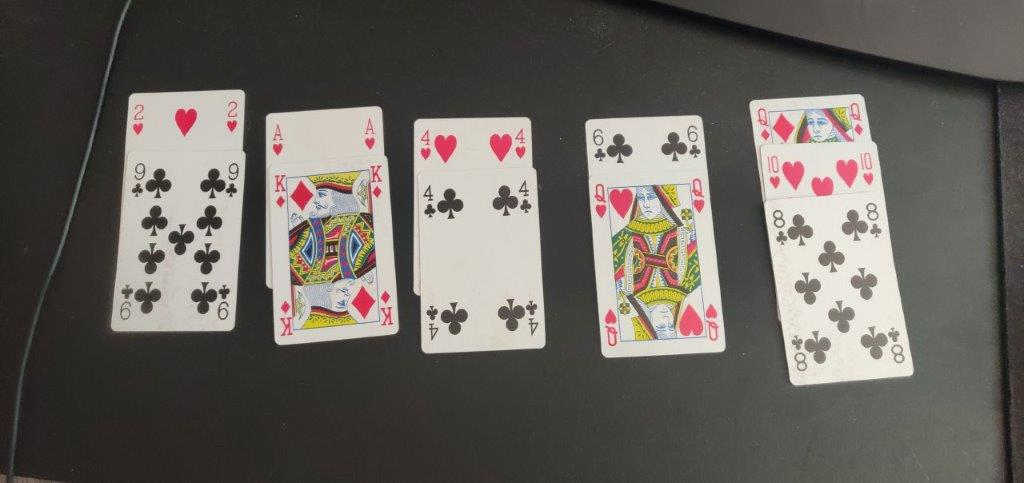10H: (857, 149, 880, 191), (763, 150, 785, 192)
2H: (126, 99, 149, 140), (225, 99, 240, 137)
4C: (419, 179, 440, 223), (516, 177, 535, 219)
4H: (416, 125, 437, 170), (514, 121, 530, 168)
6C: (684, 122, 705, 160), (588, 125, 607, 163)
8C: (768, 207, 789, 248), (865, 199, 884, 242)
9C: (124, 158, 149, 201), (224, 162, 240, 202)
AH: (269, 121, 288, 162), (362, 117, 380, 152)
KD: (369, 159, 391, 201), (269, 172, 292, 209)
QD: (753, 105, 777, 143), (847, 100, 868, 139)
QH: (687, 174, 710, 223), (590, 180, 612, 226)
